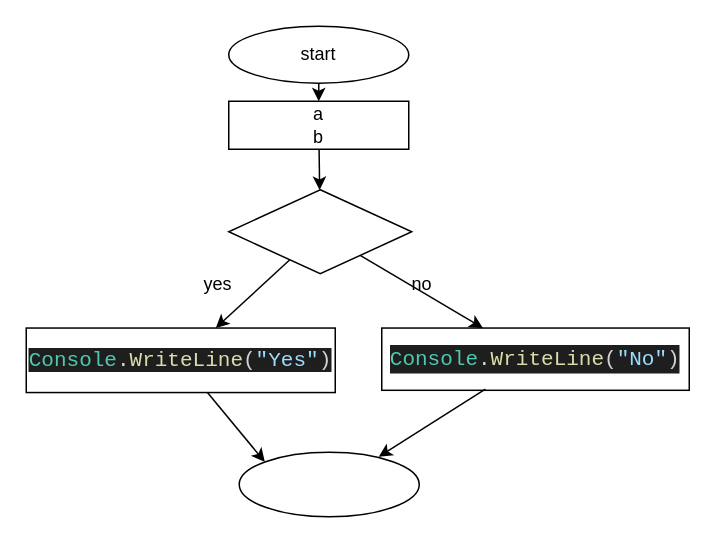
Image size: 716x543. Some labels were removed from this diagram. Each missing label, with the centre of its shape:
"b*b = a?" belongs at point (319, 231).
"finish" belongs at point (328, 484).
